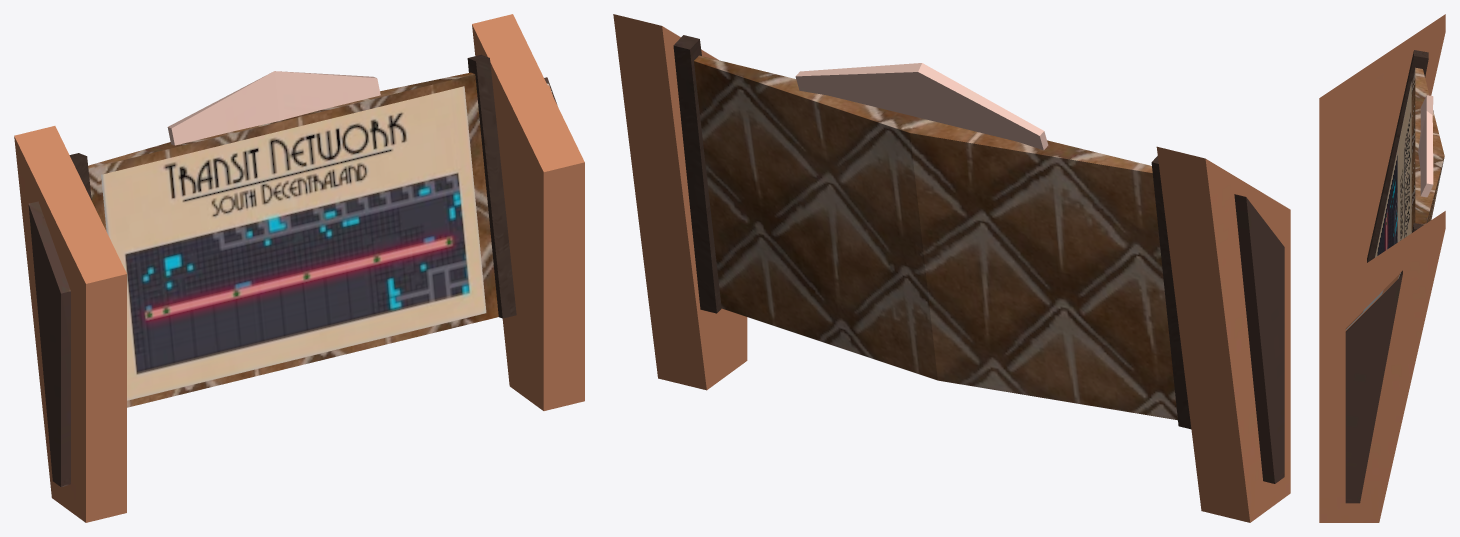
The model's file is tower-station-sign-art.glb.
3 renders of one model, left to right at view 1: azimuth 30°, elevation 25°; view 2: azimuth 150°, elevation 25°; view 3: azimuth 270°, elevation 25°, orthographic. The views are drawn at different scales.
Parts seen in each view (by area): view 1: Tower_Station_Sign_Art; view 2: Tower_Station_Sign_Art; view 3: Tower_Station_Sign_Art.
Boxes of the visible parts, x1,y1,x2,y2 form: Tower_Station_Sign_Art: (14, 14, 584, 522); Tower_Station_Sign_Art: (613, 14, 1290, 522); Tower_Station_Sign_Art: (1319, 14, 1445, 522).
Size of the model in its own units: 2.14 by 1.36 by 0.5121.
1 material, 1 textured.
